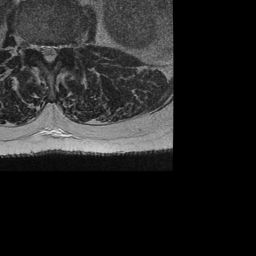CCS_normal: (45, 38, 52, 69)
LFS_severe_stenosis: (59, 38, 68, 56)
LLS_normal: (52, 37, 59, 64)
RFS_stenosis: (30, 35, 38, 57)
RLS_normal: (38, 38, 45, 62)
